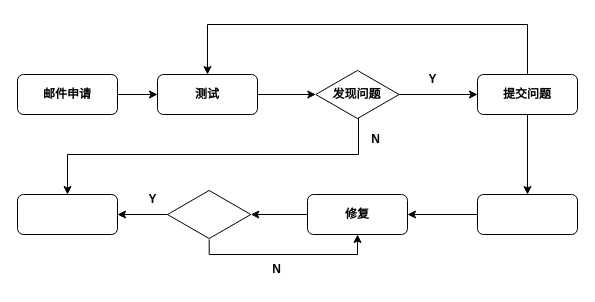
The diagram is 595 pixels wide and 302 high, and some of its shapes have lost their labels. Each missing label, with the centre of its shape:
"复测" goes at point (208, 214).
"测试完成" goes at point (527, 214).
"结束" goes at point (67, 214).
